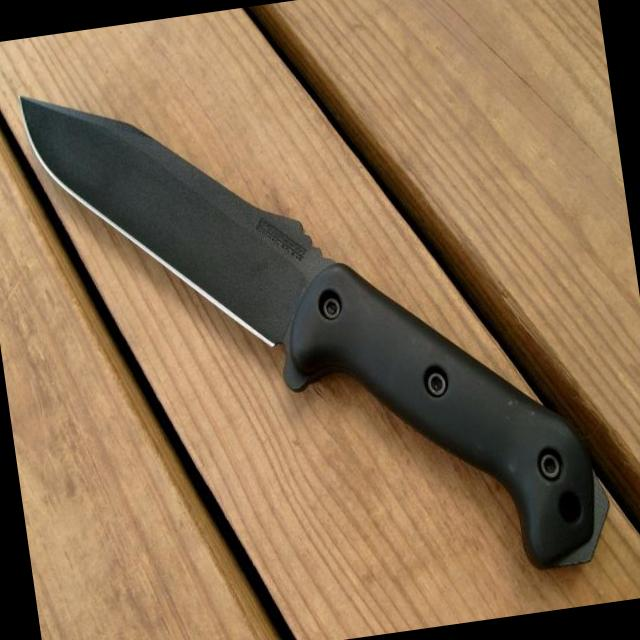Knife: (22, 98, 608, 567)
